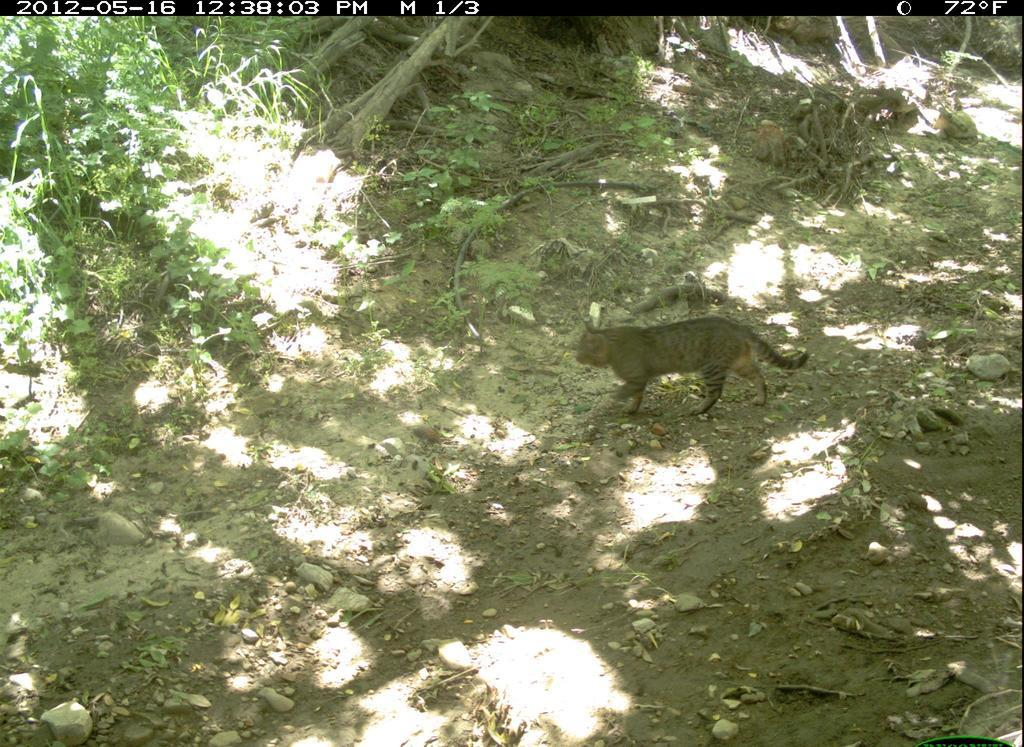cat: (561, 297, 815, 427)
